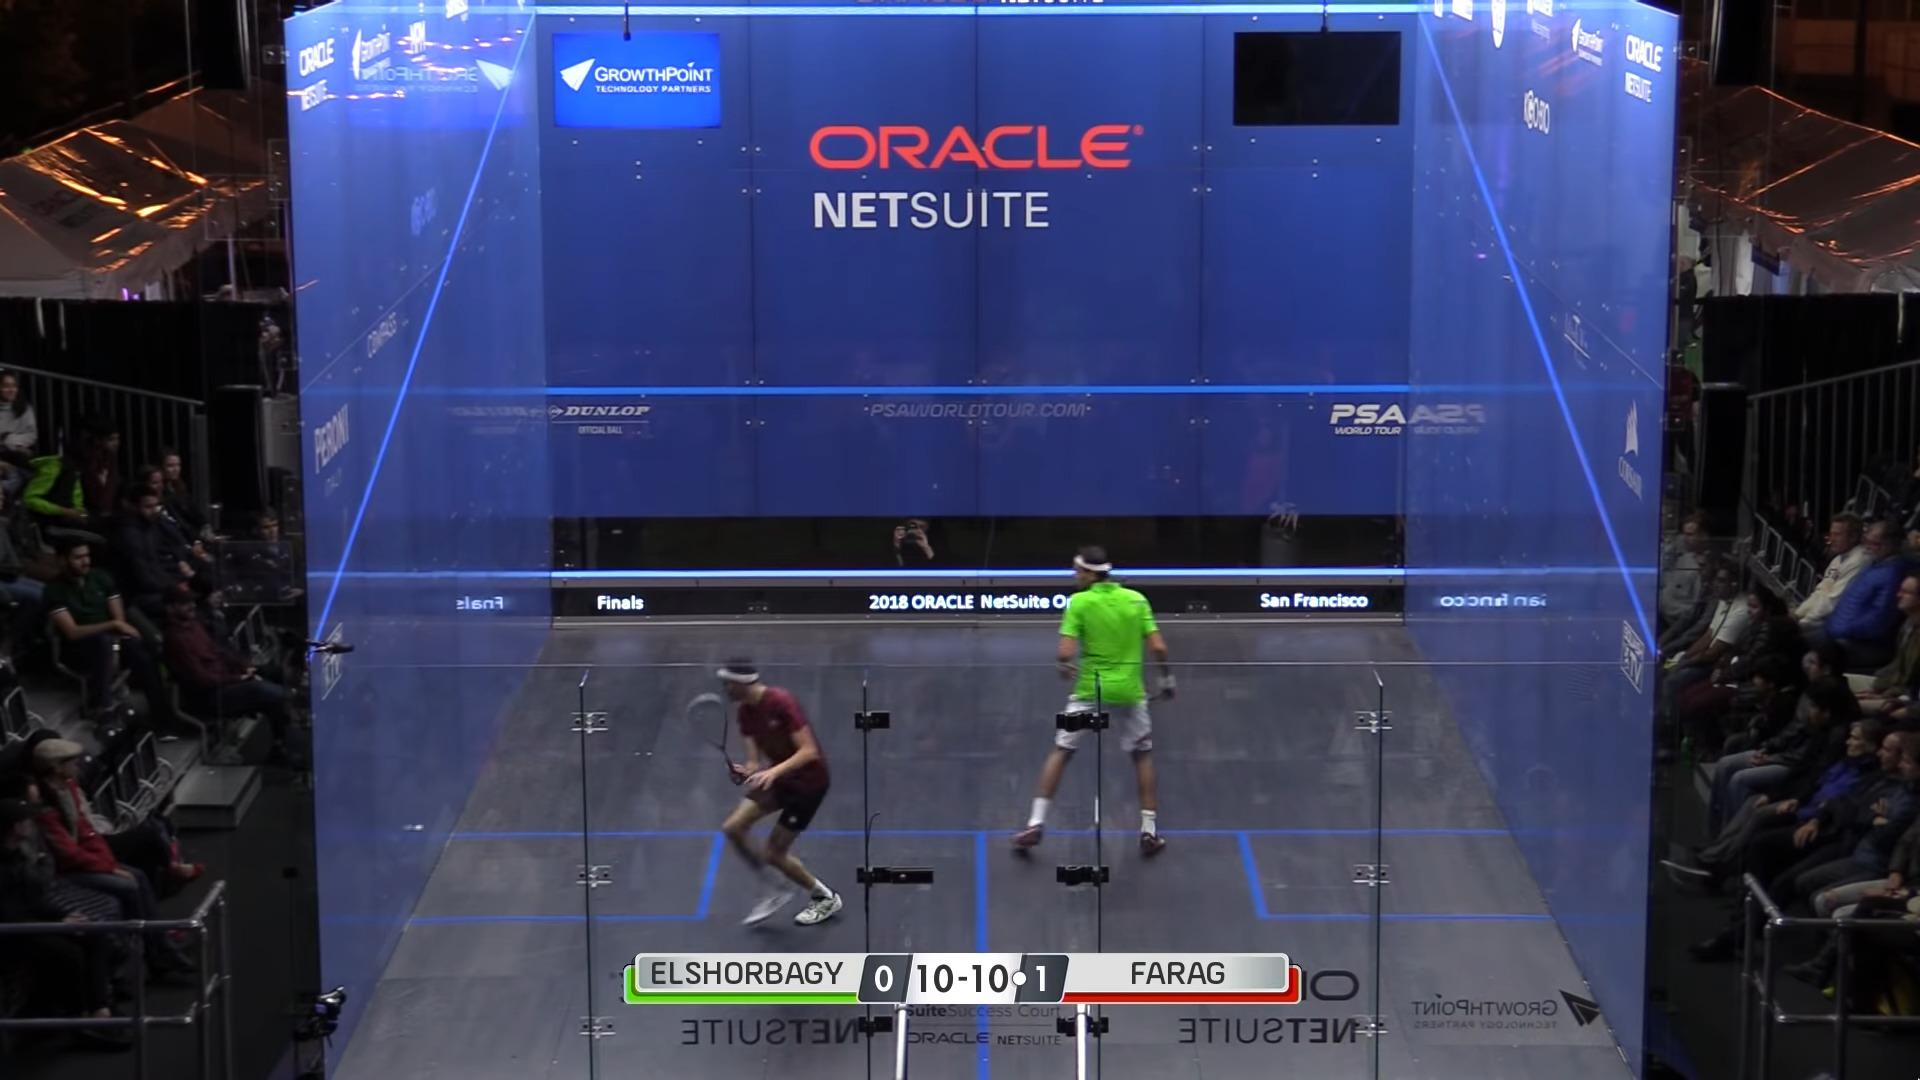Squash-Ball: (409, 815, 431, 849)
